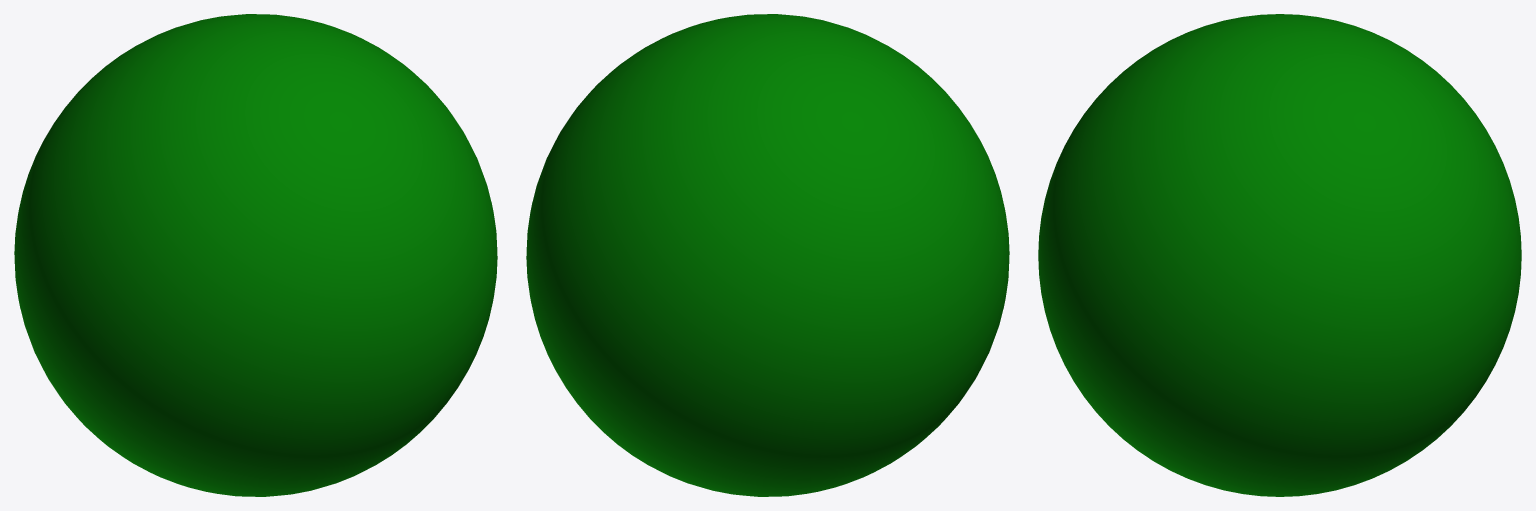
Rendered from ball-dotted-008000.glb.
3 renders of one model, left to right at view 1: azimuth 30°, elevation 25°; view 2: azimuth 150°, elevation 25°; view 3: azimuth 270°, elevation 25°, orthographic.
Visible parts, largest first — view 1: ball; view 2: ball; view 3: ball.
Part boxes in pixels (x1,y1,x2,y2): ball: (14,14,497,496); ball: (526,14,1009,496); ball: (1038,14,1521,496).
Bounding box in the file's own units: 0.0655 × 0.0655 × 0.0655.
